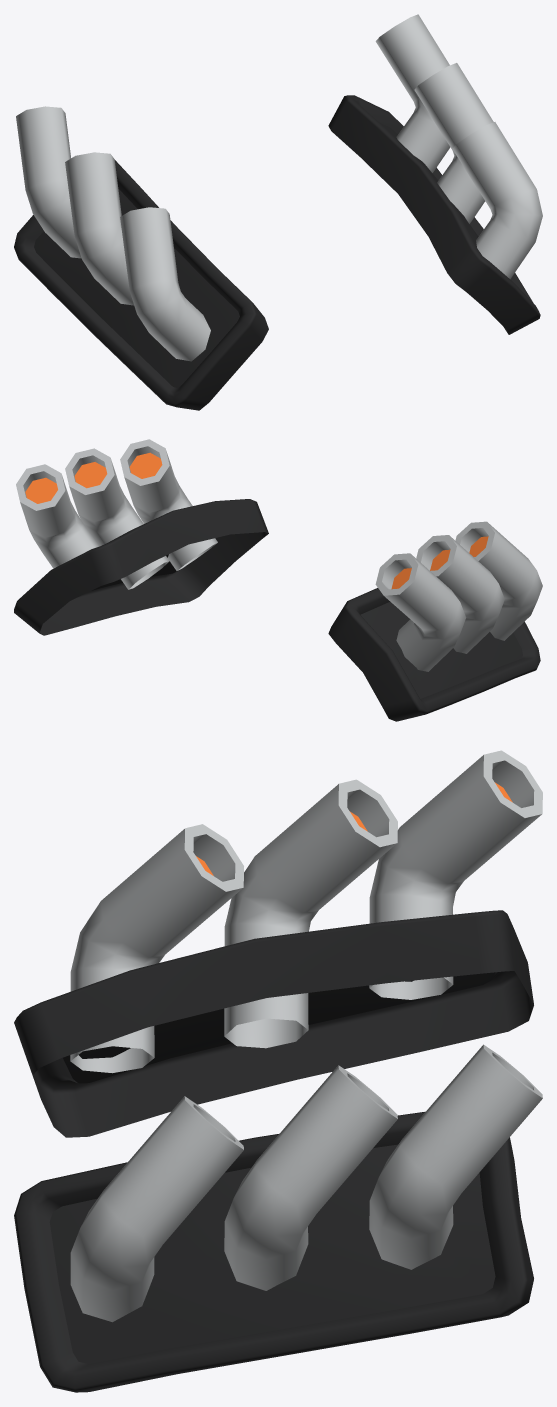
The model's file is Car_15_Engine.fbx.
3 views of the same model, one above another, from view 1: azimuth 30°, elevation 25°; view 2: azimuth 150°, elevation 25°; view 3: azimuth 270°, elevation 25° (orthographic). The views are drawn at different scales.
Visible parts, largest first — view 1: Car_15_Engine; view 2: Car_15_Engine; view 3: Car_15_Engine.
Part boxes in pixels (x1,y1,x2,y2): Car_15_Engine: (14, 14, 542, 410); Car_15_Engine: (14, 439, 542, 721); Car_15_Engine: (14, 750, 542, 1392).
Bounding box in the file's own units: 60.51 × 39.04 × 29.54.
